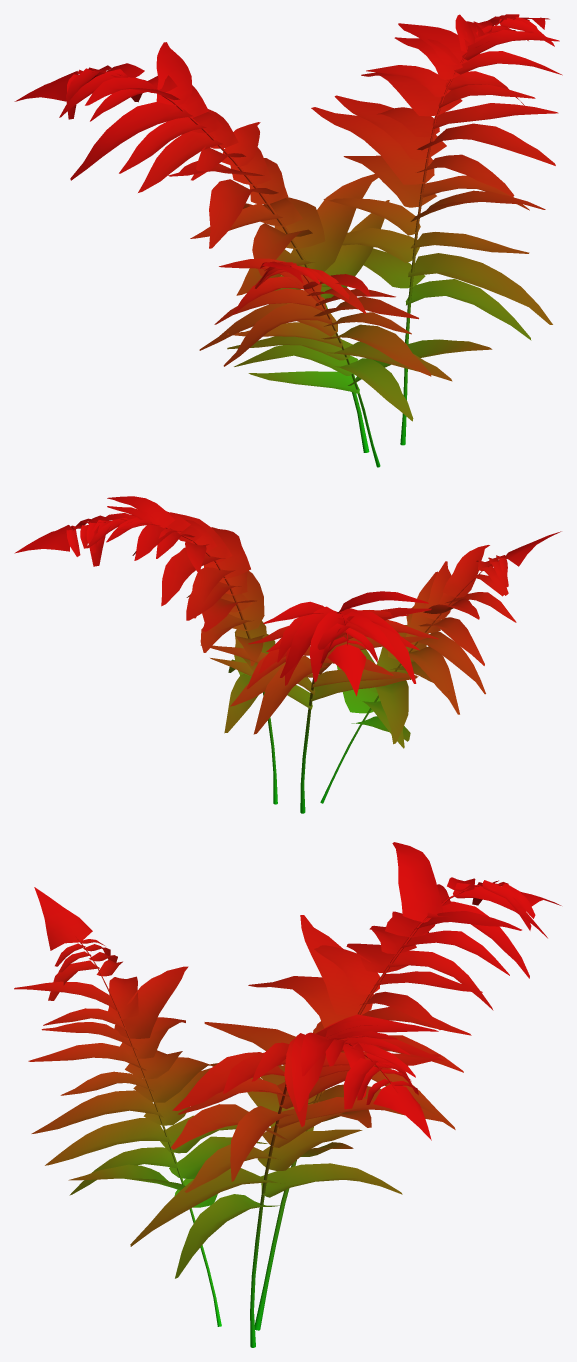
Rendered from Var5_LOD0.fbx.
3 views of the same model, one above another, from view 1: azimuth 30°, elevation 25°; view 2: azimuth 150°, elevation 25°; view 3: azimuth 270°, elevation 25° (orthographic). The views are drawn at different scales.
Parts seen in each view (by area): view 1: _0an6_Var5_LOD0; view 2: _0an6_Var5_LOD0; view 3: _0an6_Var5_LOD0.
Boxes of the visible parts, x1,y1,x2,y2 form: _0an6_Var5_LOD0: (14, 14, 562, 467); _0an6_Var5_LOD0: (14, 496, 561, 813); _0an6_Var5_LOD0: (14, 842, 561, 1347).
Bounding box in the file's own units: 25.92 × 18.36 × 23.94.
